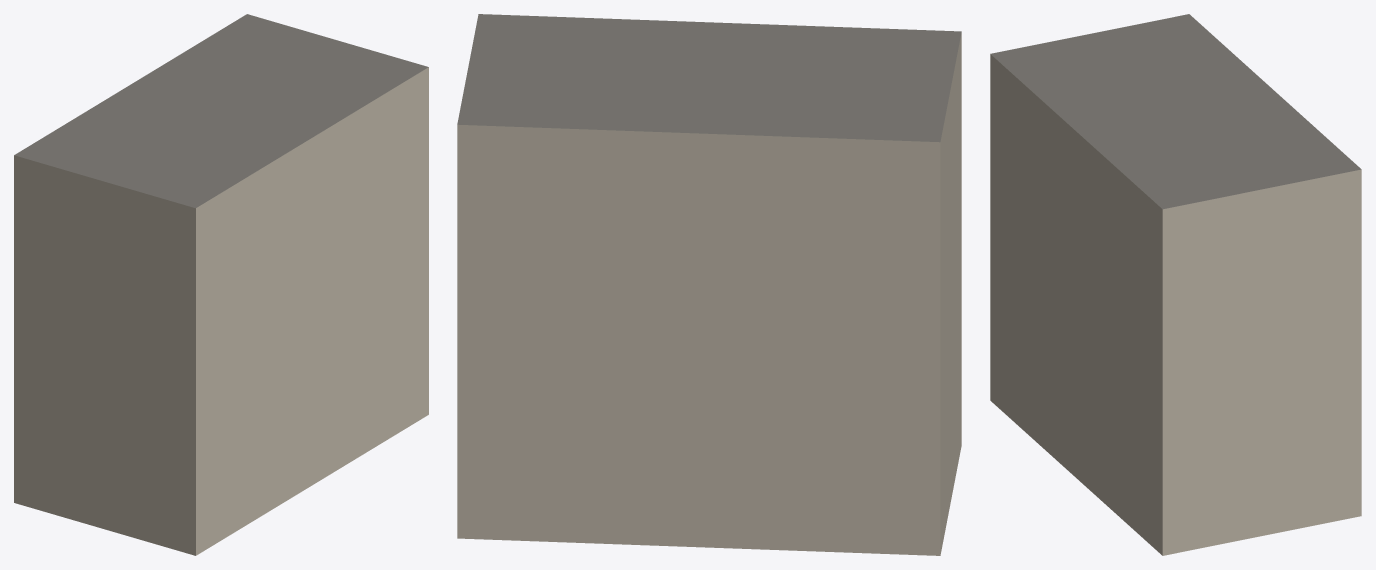
3 views of the same model, side by side, from view 1: azimuth 30°, elevation 25°; view 2: azimuth 150°, elevation 25°; view 3: azimuth 270°, elevation 25° (orthographic). The views are drawn at different scales.
Parts seen in each view (by area): view 1: HP-w478973565; view 2: HP-w478973565; view 3: HP-w478973565.
Part boxes in pixels (left/top/right/bottom): HP-w478973565: left=14, top=14, right=428, bottom=555; HP-w478973565: left=457, top=14, right=961, bottom=555; HP-w478973565: left=990, top=14, right=1361, bottom=555.
Size of the model in its own units: 21.75 by 18 by 17.48.
